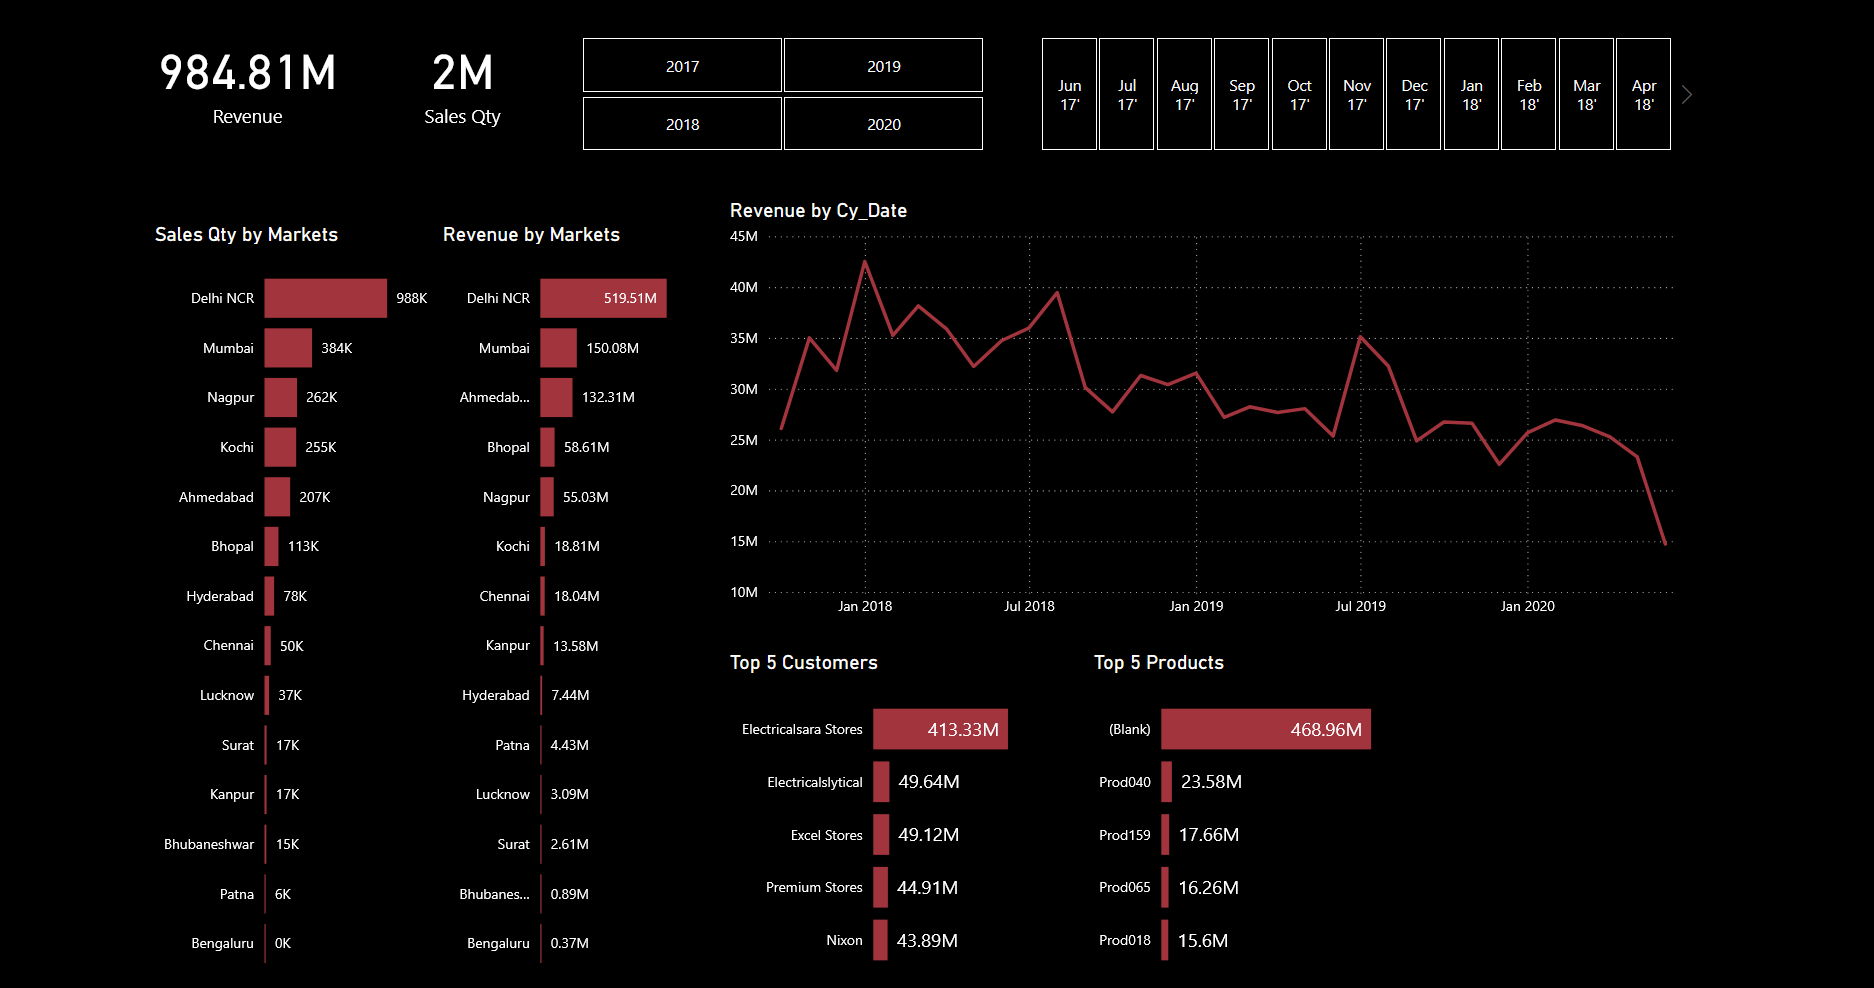

The dashboard page shown, as its layout file describes it:
{"tool":"powerbi","page":{"name":"Page 1","canvas":[1350,850],"ordinal":0},"visuals":[{"type":"card","fields":{"Values":["BaseMeasures.Revenue"]},"box":[39.7,0,168.9,136.6],"z":0},{"type":"card","fields":{"Values":["BaseMeasures.Sales Qty"]},"box":[168.9,0,201.2,136.6],"z":1000},{"type":"slicer","fields":{"Values":["sales date.year"]},"box":[346.6,26.4,393.6,110.1],"z":2000},{"type":"slicer","fields":{"Values":["sales date.cy_date"]},"box":[740.2,26.4,590.4,110.1],"z":3000},{"type":"barChart","title":"Sales Qty by Markets","fields":{"Y":["BaseMeasures.Sales Qty"],"Category":["sales markets.markets_name"]},"box":[0,190.9,246.7,659.4],"z":4000},{"type":"barChart","title":"Revenue by Markets","fields":{"Y":["BaseMeasures.Revenue"],"Category":["sales markets.markets_name"]},"box":[246.7,190.9,246.7,659.4],"z":5000},{"type":"barChart","title":"Top 5 Customers","fields":{"Y":["BaseMeasures.Revenue"],"Category":["sales customers.custmer_name"]},"box":[493.4,559.5,312.8,290.8],"z":6000},{"type":"barChart","title":"Top 5 Products","fields":{"Y":["BaseMeasures.Revenue"],"Category":["sales products.product_code"]},"box":[806.2,559.5,312.8,290.8],"z":7000},{"type":"lineChart","title":"Revenue by Cy_Date","fields":{"Y":["BaseMeasures.Revenue"],"Category":["sales date.cy_date"]},"box":[493.4,170.4,837.1,368.6],"z":8000}]}

Visuals, with their boxes in screenshot pixels (x1, y1, x2, y2):
card - BaseMeasures.Revenue: [29, 0, 215, 87]
card - BaseMeasures.Sales Qty: [172, 0, 394, 87]
slicer - sales date.year: [368, 0, 802, 87]
slicer - sales date.cy_date: [802, 0, 1453, 87]
"Sales Qty by Markets" barChart: [0, 147, 258, 875]
"Revenue by Markets" barChart: [258, 147, 530, 875]
"Top 5 Customers" barChart: [530, 554, 875, 875]
"Top 5 Products" barChart: [875, 554, 1220, 875]
"Revenue by Cy_Date" lineChart: [530, 125, 1453, 531]
